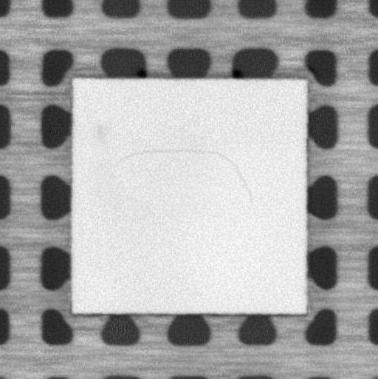DIE_CRACK: (117, 146, 254, 202)
